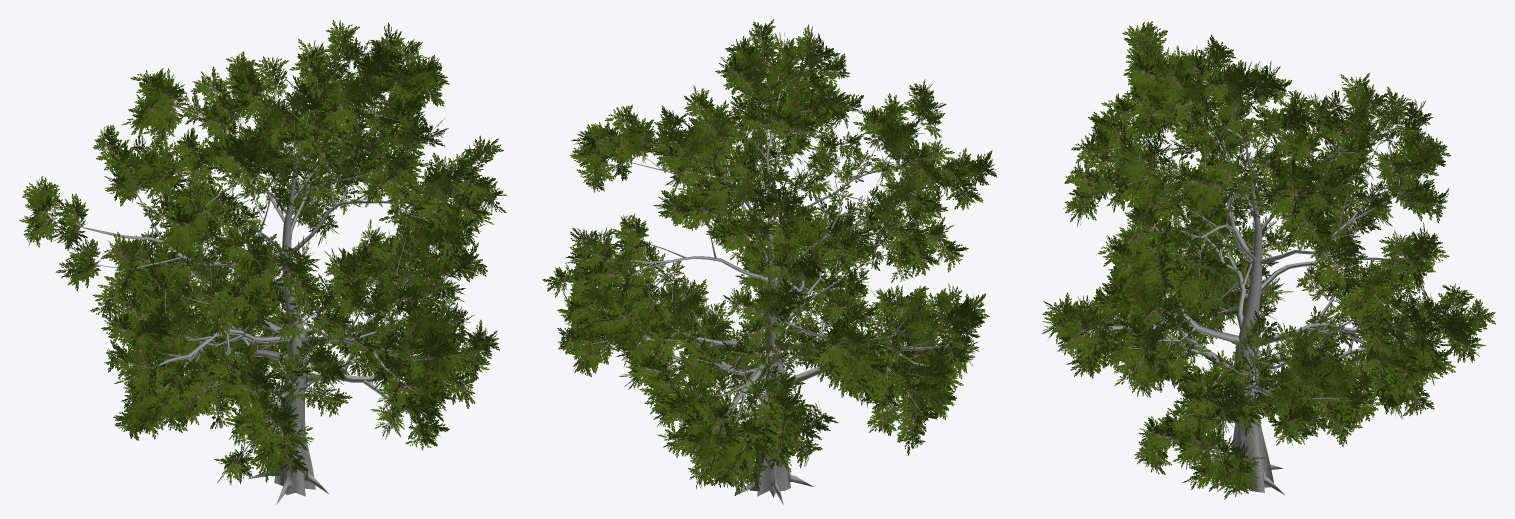
File: beech-green.gltf
3 views of the same model, side by side, from view 1: azimuth 30°, elevation 25°; view 2: azimuth 150°, elevation 25°; view 3: azimuth 270°, elevation 25° (orthographic). The views are drawn at different scales.
Parts seen in each view (by area): view 1: American beech Green; view 2: American beech Green; view 3: American beech Green.
Part boxes in pixels (box(x1,y1,x2,y2)): American beech Green: box(19, 20, 507, 504); American beech Green: box(542, 19, 998, 504); American beech Green: box(1042, 21, 1495, 499).
Size of the model in its own units: 771 by 817 by 757.
2 materials, 2 textured.
